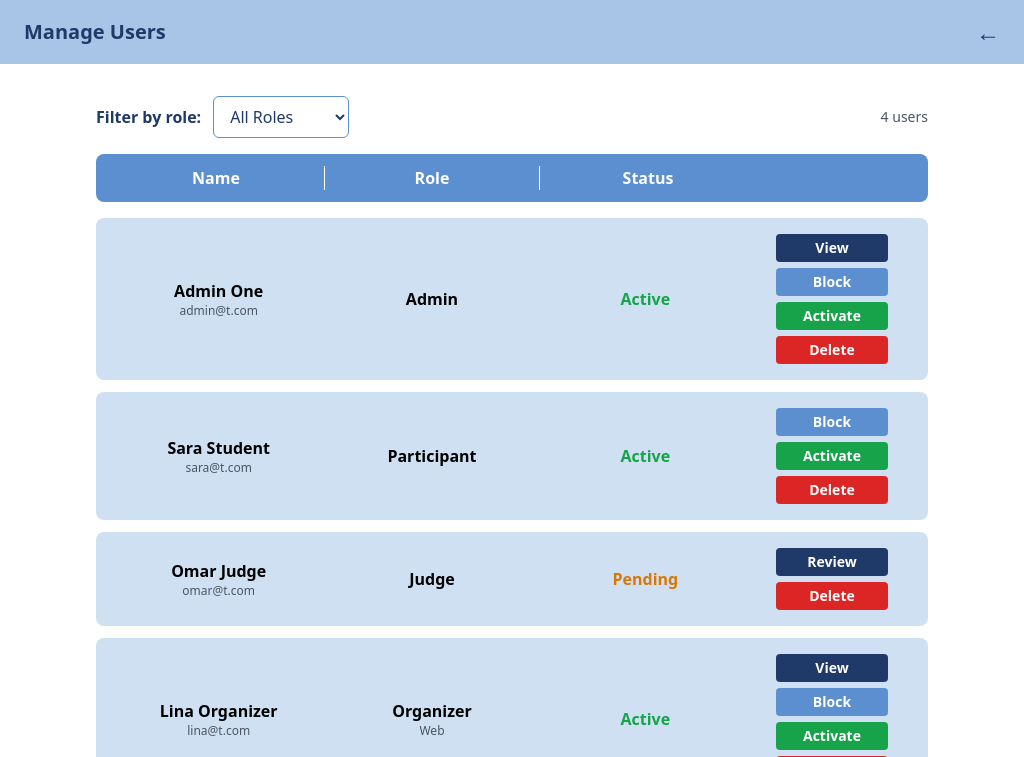
Admin: approve / reject registrations › approving sends the decision and the user becomes Active
Expected: the text "Omar Judge" is shown, [171,560,266,582]
Click the button "Review" at (832, 562), box [776,548,888,576]
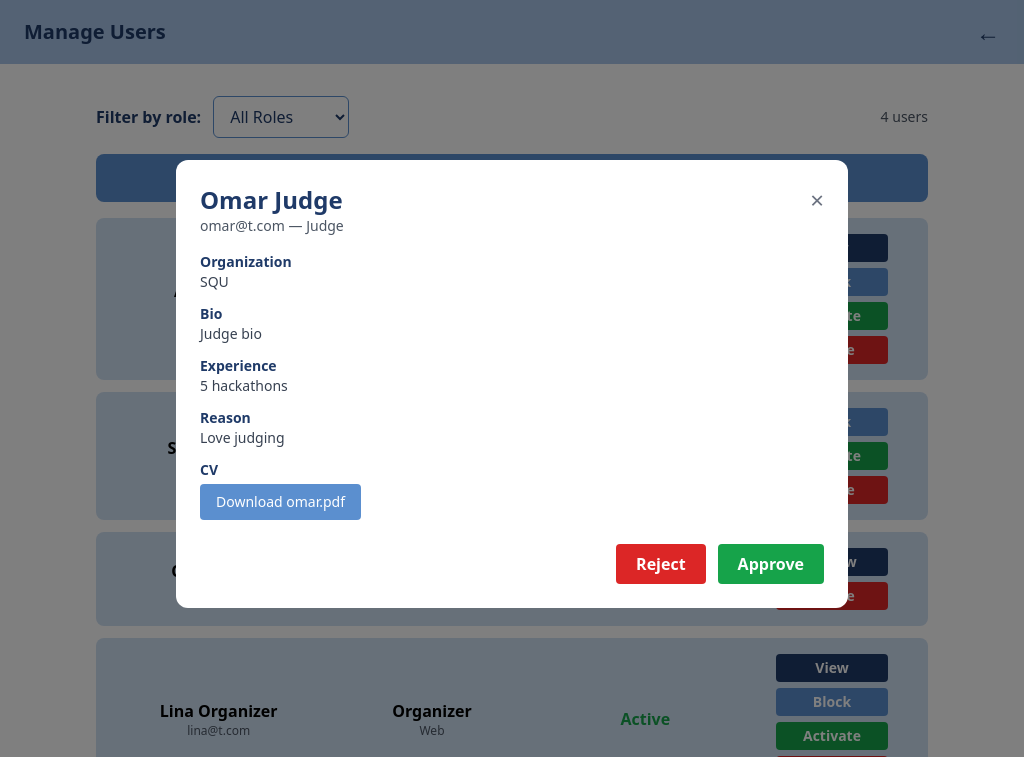
Click the button "Approve" at (771, 564), box [718,544,824,584]
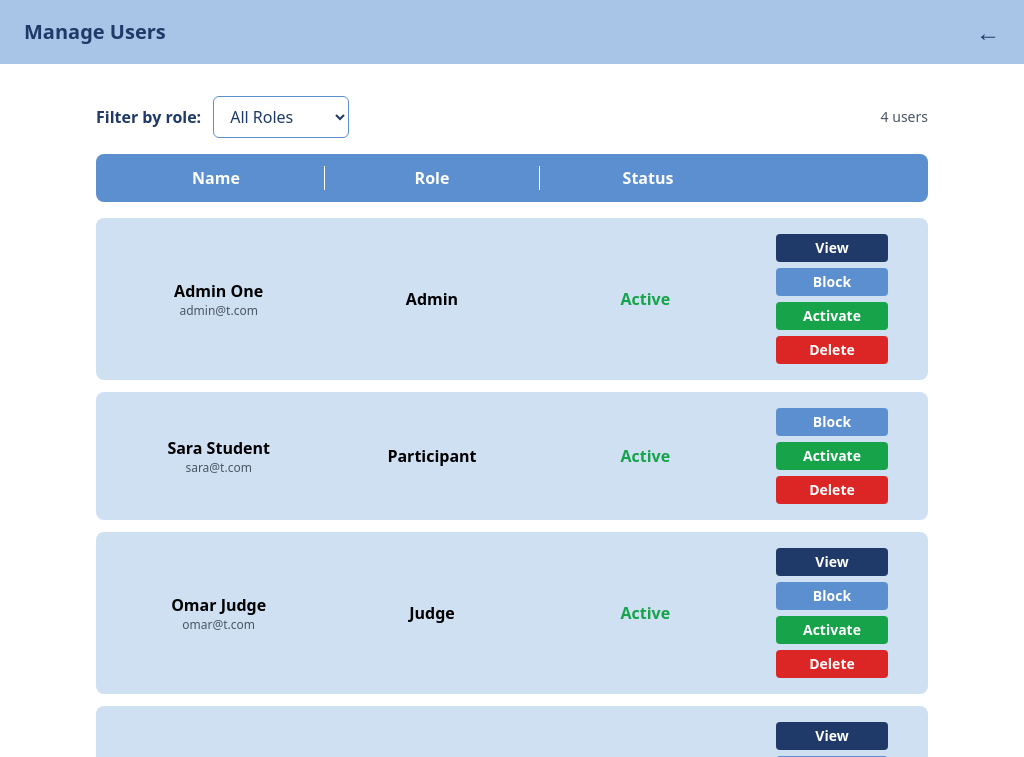
Expected: the text "Active" in the row of "Omar Judge" is shown, [620,602,670,624]
